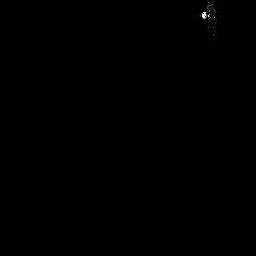ship: (198, 1, 219, 38)
